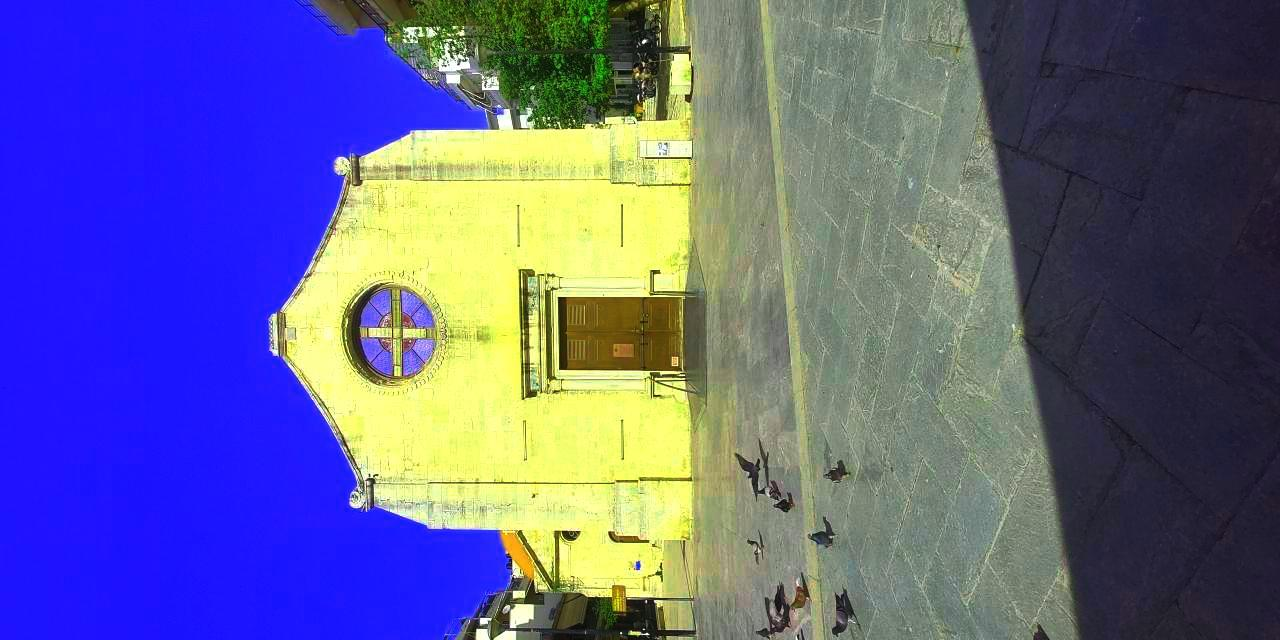Agia Aikaterini: (91, 293, 475, 640)
